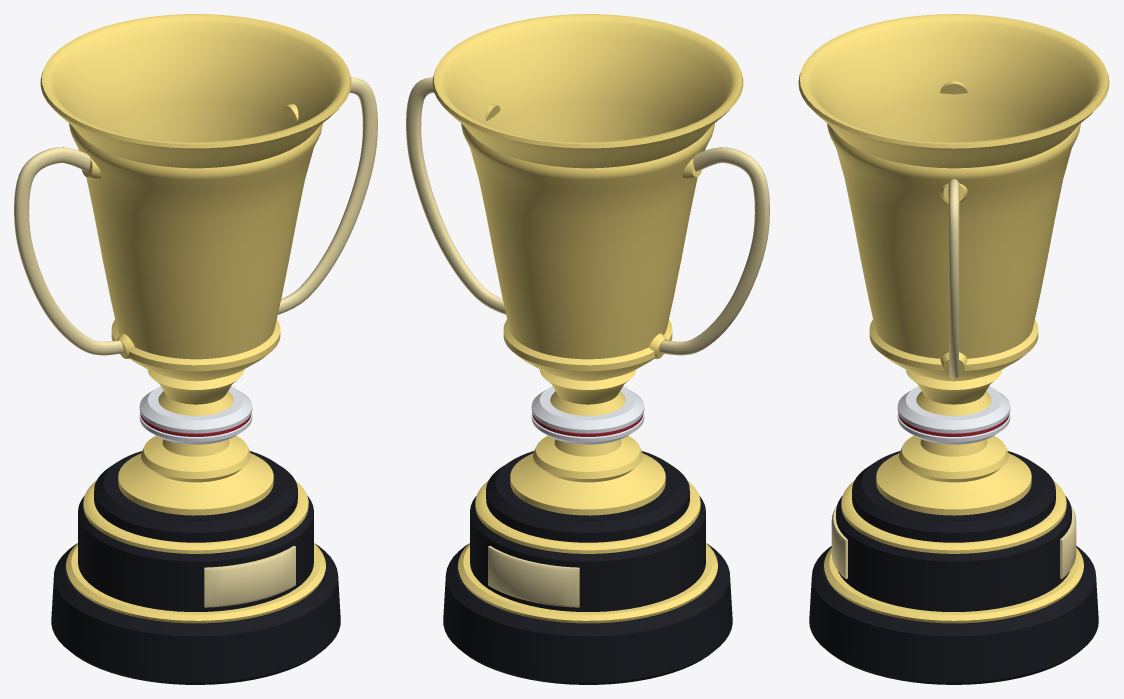
The model's file is champion_trophy.glb.
The picture shows the model from 3 angles, left to right: view 1: azimuth 30°, elevation 25°; view 2: azimuth 150°, elevation 25°; view 3: azimuth 270°, elevation 25°; orthographic projection.
Parts seen in each view (by area): view 1: Trophy_Chalice_Gold, Trophy_Pedestal_Obsidian, Trophy_Handle_Left, Trophy_Pedestal_CollarLower, Trophy_Handle_Right, Trophy_Pedestal_Plaque_Rear, Trophy_ChampionshipRing_Bevel, Trophy_Pedestal_CollarUpper; view 2: Trophy_Chalice_Gold, Trophy_Pedestal_Obsidian, Trophy_Handle_Left, Trophy_Pedestal_CollarLower, Trophy_Handle_Right, Trophy_Pedestal_Plaque_Front, Trophy_ChampionshipRing_Bevel, Trophy_Pedestal_CollarUpper; view 3: Trophy_Chalice_Gold, Trophy_Pedestal_Obsidian, Trophy_Pedestal_CollarLower, Trophy_ChampionshipRing_Bevel, Trophy_Pedestal_CollarUpper, Trophy_Handle_Right, Trophy_Pedestal_Plaque_Front, Trophy_Pedestal_Plaque_Rear.
Boxes of the visible parts, <box> form: Trophy_Chalice_Gold: <box>40,14,351,515</box>; Trophy_Pedestal_Obsidian: <box>51,451,340,684</box>; Trophy_Handle_Left: <box>14,147,123,355</box>; Trophy_Pedestal_CollarLower: <box>66,543,325,623</box>; Trophy_Handle_Right: <box>278,77,377,314</box>; Trophy_Pedestal_Plaque_Rear: <box>204,546,295,607</box>; Trophy_ChampionshipRing_Bevel: <box>139,386,252,444</box>; Trophy_Pedestal_CollarUpper: <box>83,480,308,553</box>; Trophy_Chalice_Gold: <box>432,14,743,515</box>; Trophy_Pedestal_Obsidian: <box>443,451,732,684</box>; Trophy_Handle_Left: <box>660,147,769,355</box>; Trophy_Pedestal_CollarLower: <box>458,543,717,623</box>; Trophy_Handle_Right: <box>406,77,505,314</box>; Trophy_Pedestal_Plaque_Front: <box>488,546,579,607</box>; Trophy_ChampionshipRing_Bevel: <box>531,386,644,444</box>; Trophy_Pedestal_CollarUpper: <box>475,480,700,553</box>; Trophy_Chalice_Gold: <box>798,14,1109,515</box>; Trophy_Pedestal_Obsidian: <box>809,451,1098,684</box>; Trophy_Pedestal_CollarLower: <box>824,548,1083,623</box>; Trophy_ChampionshipRing_Bevel: <box>897,386,1010,444</box>; Trophy_Pedestal_CollarUpper: <box>841,480,1066,553</box>; Trophy_Handle_Right: <box>948,179,959,379</box>; Trophy_Pedestal_Plaque_Front: <box>1060,506,1076,578</box>; Trophy_Pedestal_Plaque_Rear: <box>831,506,847,578</box>.
Size of the model in its own units: 0.312 by 0.45 by 0.232.
